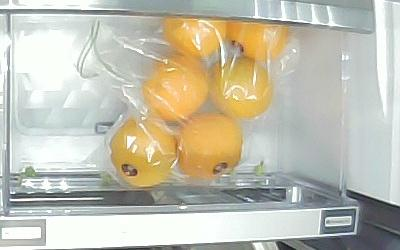orange_vinyl: (107, 115, 176, 189), (141, 51, 210, 125), (177, 113, 244, 182), (210, 55, 273, 119), (222, 23, 290, 65), (163, 16, 225, 61)
